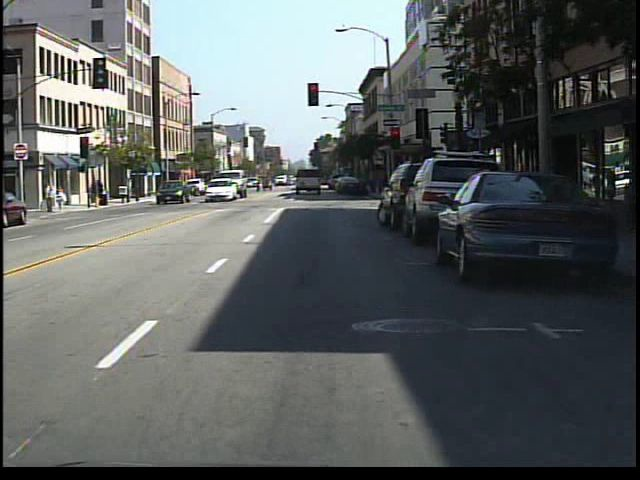person: (42, 180, 56, 216), (55, 183, 70, 211)
